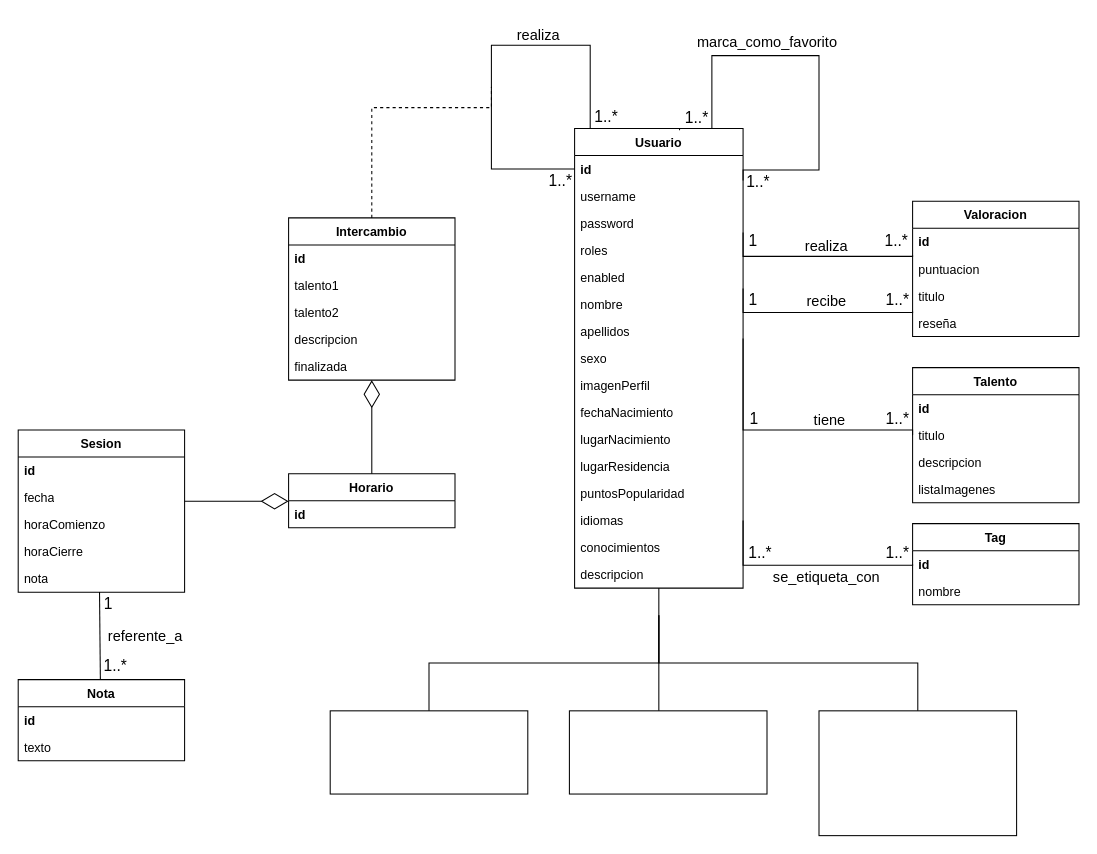
Image size: 1097x854. Some labels were removed from this diagram. The shapes that lost their labels are listed below. From the top down, each one's centre as x and y in pixels, then its label:
At (x=428, y=752): "<<Enumeration>> Rol USUARIO ADMIN".
At (x=667, y=752): "<<Enumeration>> Sexo HOMBRE MUJER".
At (x=917, y=773): "<<Enumeration>> Provincias ALAVA ALBACETE ALICANTE ALMERIA ...".
